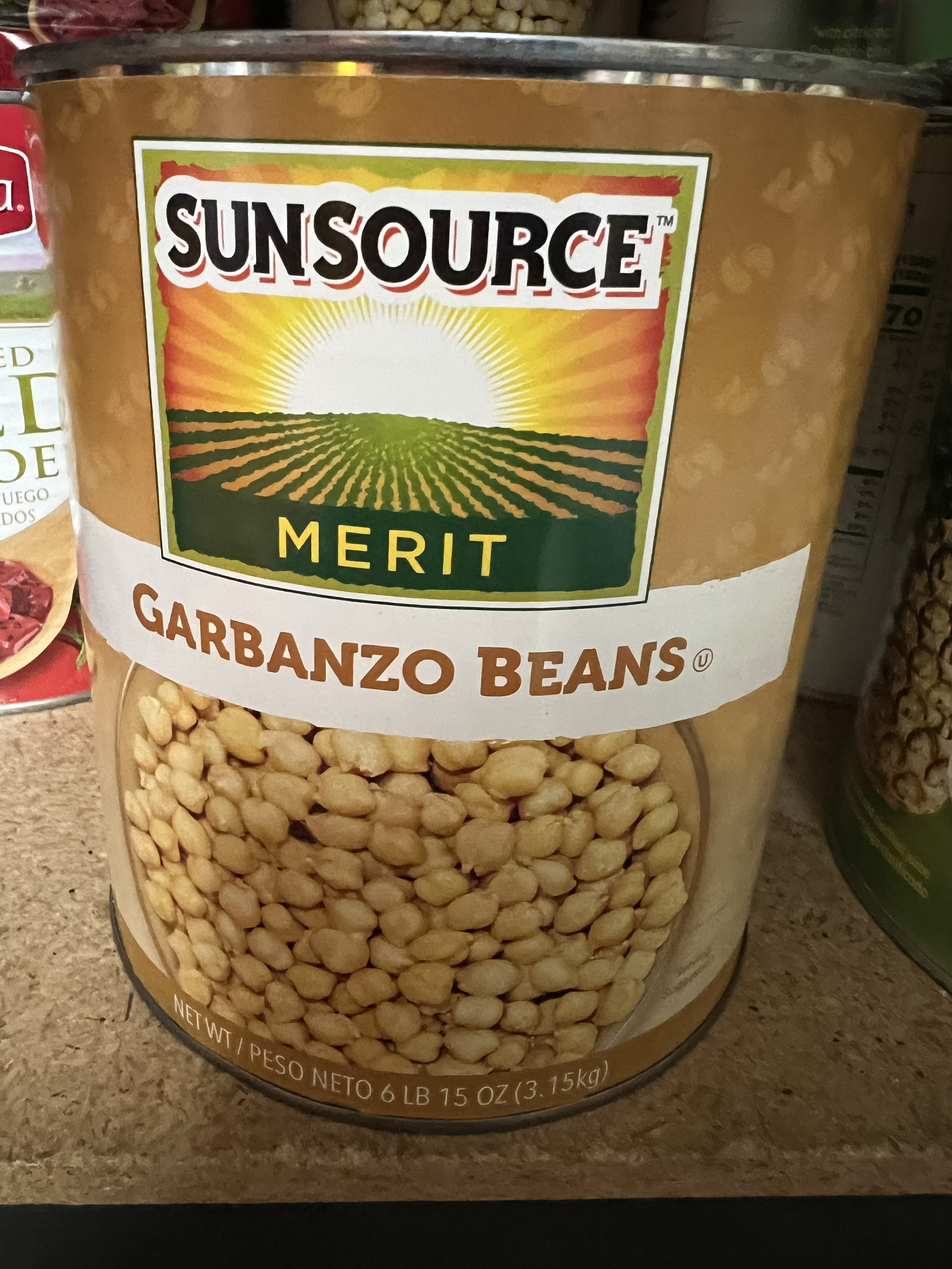packaged: (39, 32, 918, 1146)
